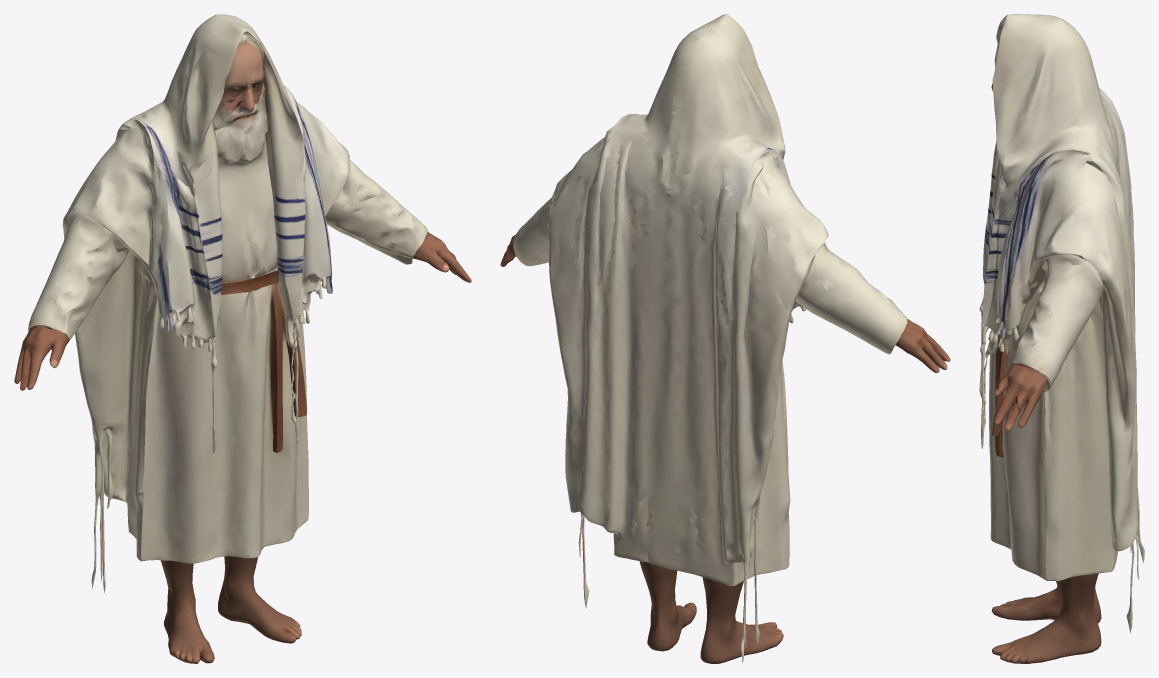
Rendered from israelite_talith_2.glb.
3 renders of one model, left to right at view 1: azimuth 30°, elevation 25°; view 2: azimuth 150°, elevation 25°; view 3: azimuth 270°, elevation 25°, orthographic.
Parts seen in each view (by area): view 1: Mesh; view 2: Mesh; view 3: Mesh.
Part boxes in pixels (box(x1,y1,x2,y2)): Mesh: box(14, 14, 471, 663); Mesh: box(500, 14, 950, 663); Mesh: box(979, 14, 1144, 663).
Bounding box in the file's own units: 1.43 × 1.89 × 0.4567.
Materials: 1 (1 with a texture image).
